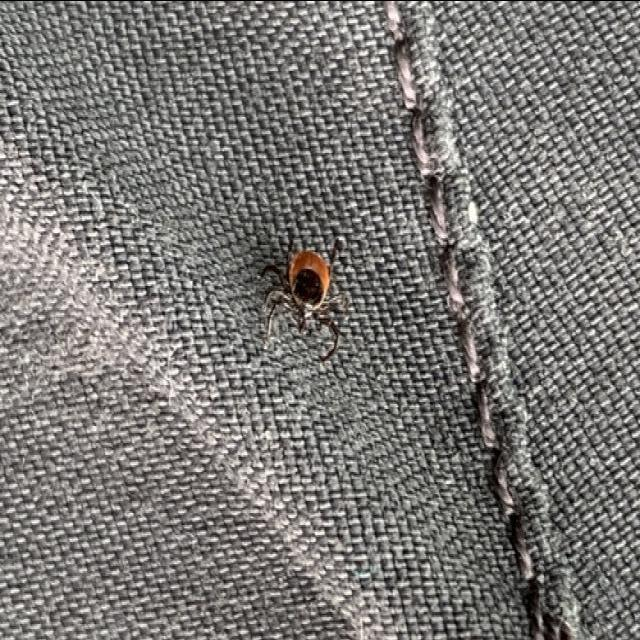Ixodes Ricinus-F: (261, 249, 329, 336), (319, 319, 339, 362)
